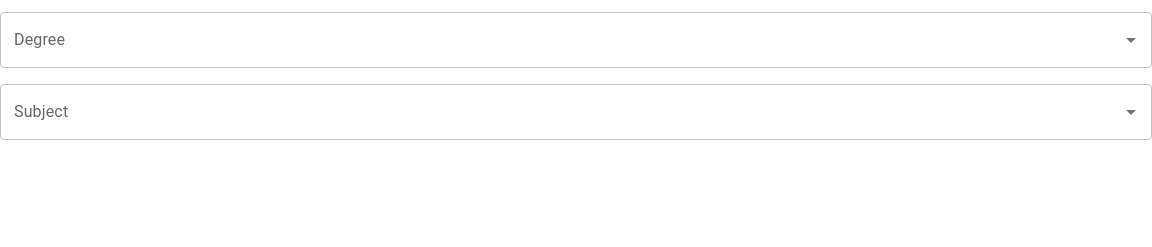
LAN-512 — Degree and Subject filter each other (Brian's second walk, 31 October) › fills in the Degree when only one offers the subject chosen first
In the dropdown labelled "Subject": (561, 112) [9, 93, 1113, 131], type "Business Administration"
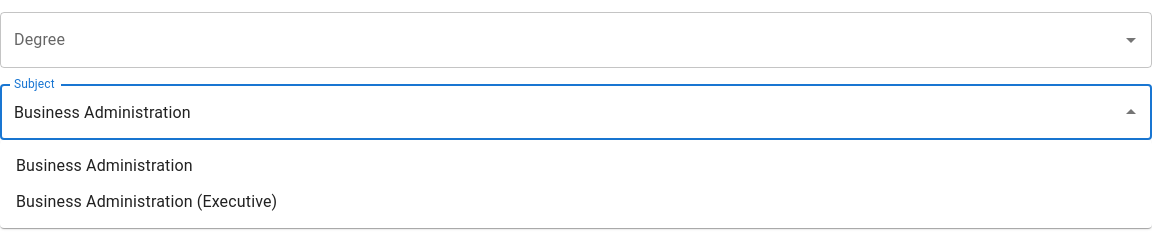
Click the option "Business Administration": (104, 166) [16, 156, 193, 175]
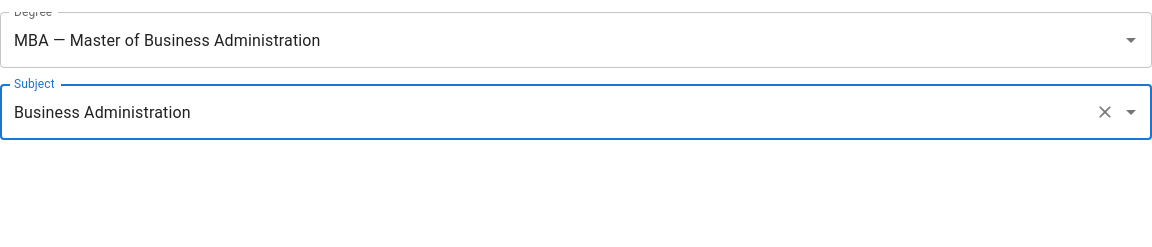
Now the dropdown labelled "Degree" holds "MBA — Master of Business Administration", box [9, 21, 1087, 59]
